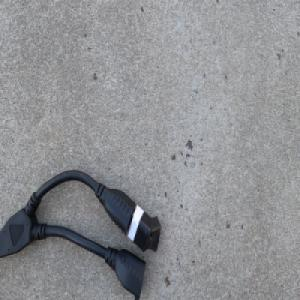Wire: (0, 168, 161, 300)
